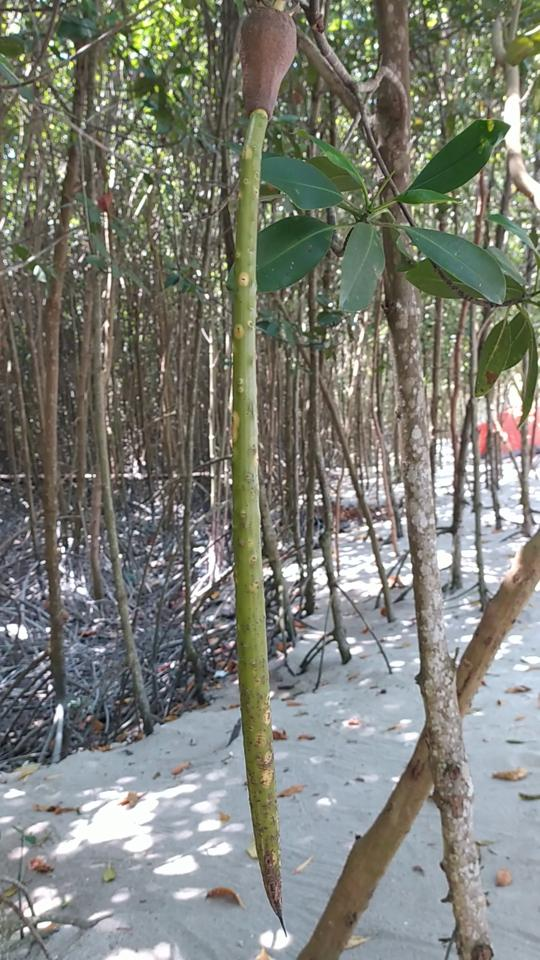setengah matang: (226, 4, 306, 938)
